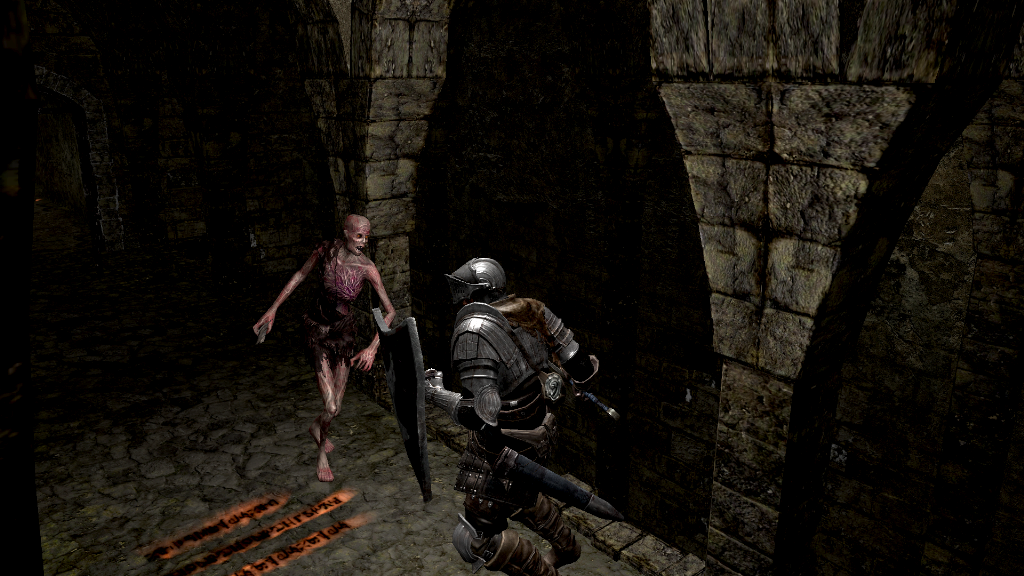hollow: (249, 211, 397, 483)
player: (369, 249, 623, 576)
